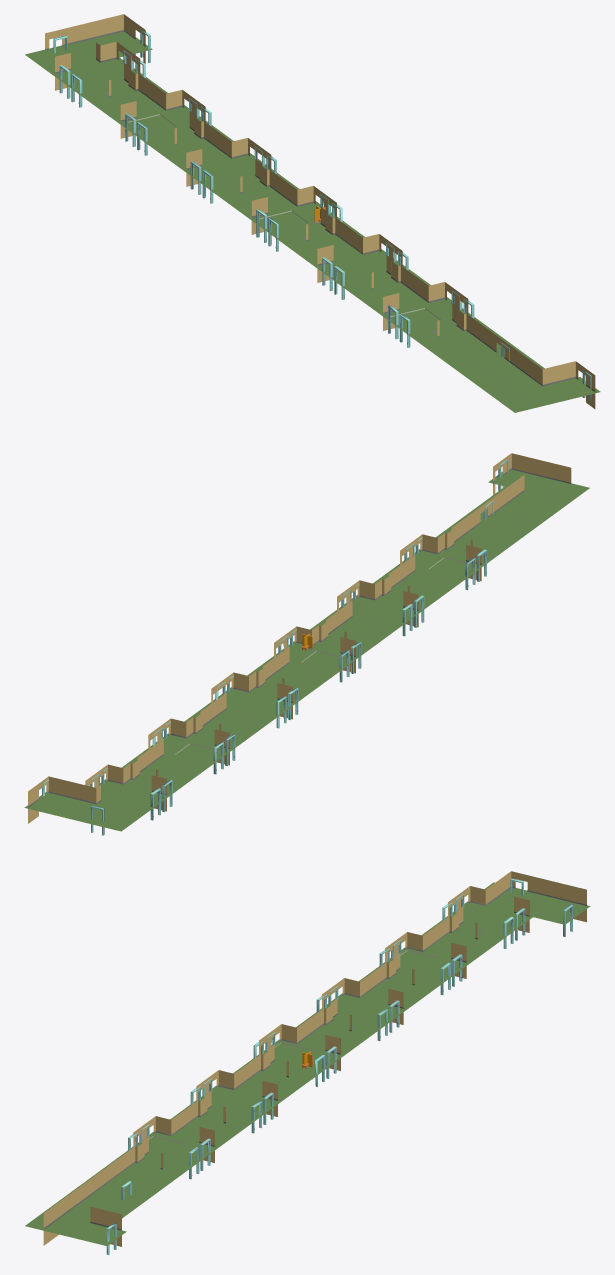
The model's file is hotel-hospitality-lod3.glb.
3 renders of one model, top to bottom at view 1: azimuth 30°, elevation 25°; view 2: azimuth 150°, elevation 25°; view 3: azimuth 330°, elevation 25°, orthographic. The views are drawn at different scales.
Visible parts, largest first — view 1: floor, walls, door_frames, floor_borders; view 2: floor, walls, door_frames, floor_borders; view 3: floor, walls, door_frames, floor_borders.
Boxes of the visible parts, <box> form: floor: <box>25,31,600,412</box>; walls: <box>45,14,595,408</box>; door_frames: <box>53,29,591,403</box>; floor_borders: <box>45,30,594,391</box>; floor: <box>24,469,589,831</box>; walls: <box>28,453,571,823</box>; door_frames: <box>42,459,508,835</box>; floor_borders: <box>28,468,571,819</box>; floor: <box>25,882,590,1245</box>; walls: <box>43,871,586,1246</box>; door_frames: <box>106,878,572,1254</box>; floor_borders: <box>43,886,586,1230</box>.
Size of the model in its own units: 351718 by 94027 by 2449985.
